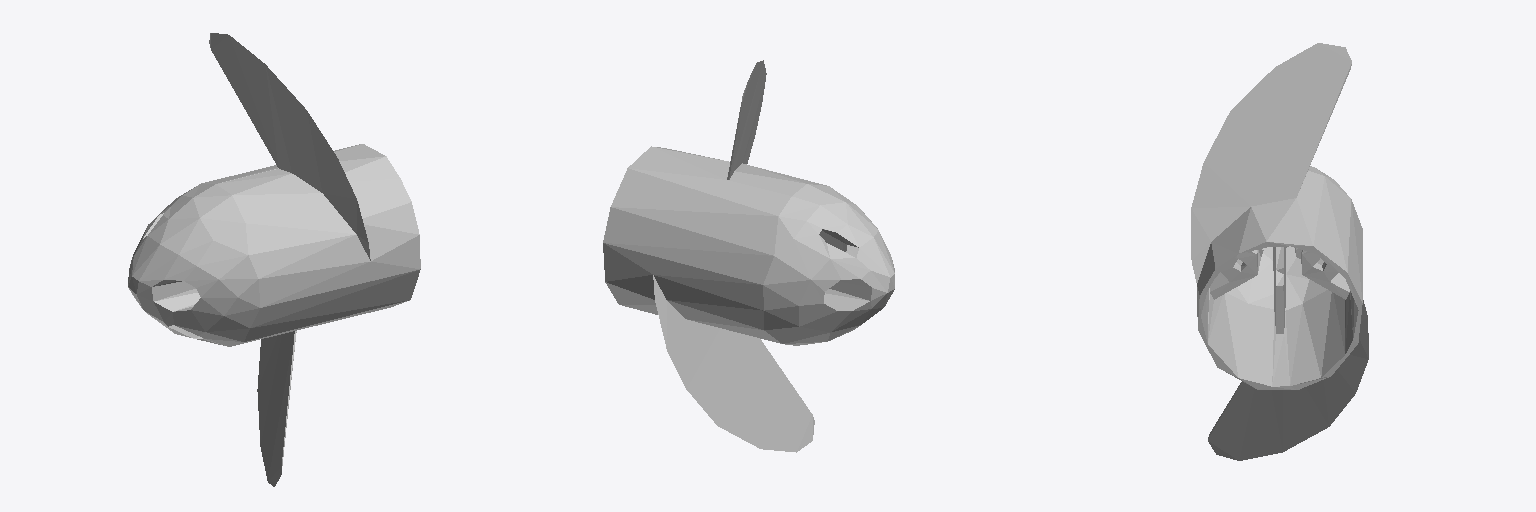
Rendered from propeller_cc.obj.
3 renders of one model, left to right at view 1: azimuth 30°, elevation 25°; view 2: azimuth 150°, elevation 25°; view 3: azimuth 270°, elevation 25°, orthographic.
Parts seen in each view (by area): view 1: Propeller_left.002; view 2: Propeller_left.002; view 3: Propeller_left.002.
Boxes of the visible parts, x1,y1,x2,y2 form: Propeller_left.002: [128, 33, 420, 486]; Propeller_left.002: [603, 60, 894, 452]; Propeller_left.002: [1191, 43, 1368, 460].
Size of the model in its own units: 0.0649 by 0.1049 by 0.0403.